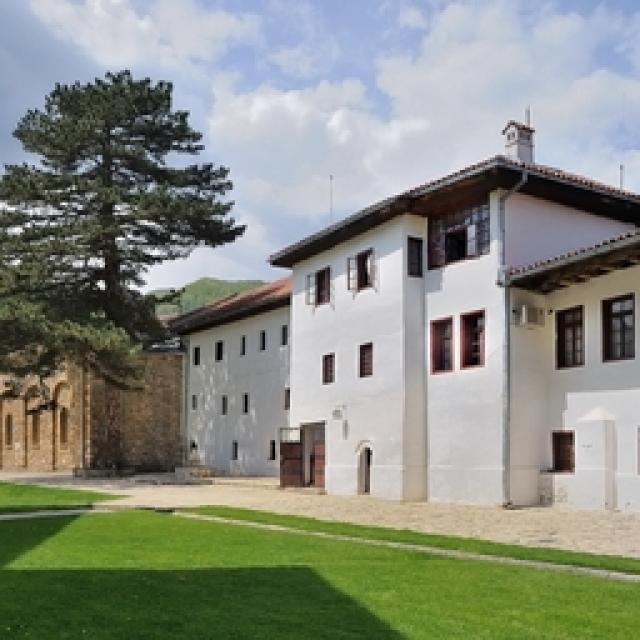Abbey: (34, 263, 211, 493)
